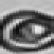correct: (0, 11, 54, 52)
